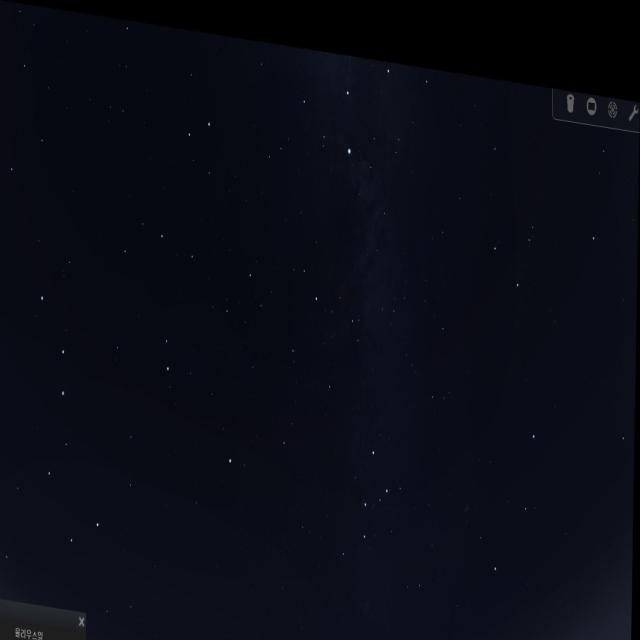cassiopeia: (338, 420, 398, 568)
cygnus: (292, 37, 408, 177)
ursa_major: (31, 280, 111, 564)
